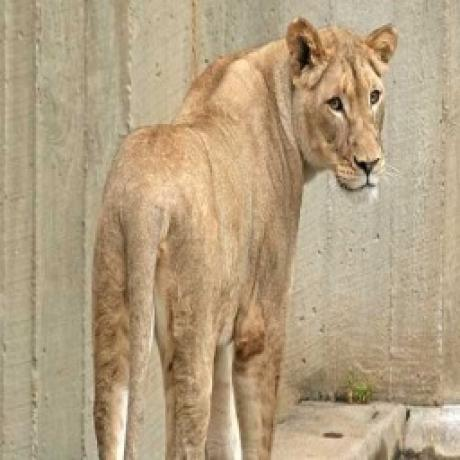Lion: (86, 12, 404, 460)
